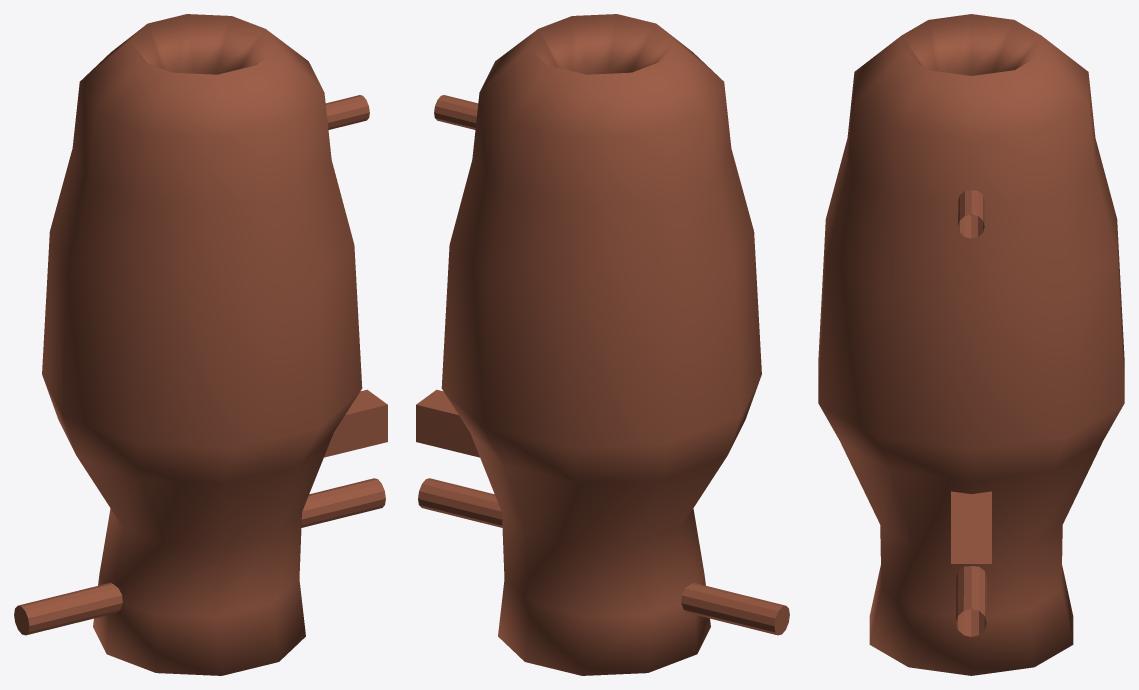
The model's file is thermite reaction.fbx.
The picture shows the model from 3 angles, left to right: view 1: azimuth 30°, elevation 25°; view 2: azimuth 150°, elevation 25°; view 3: azimuth 270°, elevation 25°; orthographic projection.
Parts seen in each view (by area): view 1: thermite_reaction1, pipe2, pipe, pipe1, pipe3; view 2: thermite_reaction1, pipe2, pipe, pipe1, pipe3; view 3: thermite_reaction1, pipe, pipe1, pipe3.
Boxes of the visible parts, bbox=[...] form: thermite_reaction1: bbox=[42, 14, 362, 675]; pipe2: bbox=[14, 582, 122, 635]; pipe: bbox=[324, 389, 387, 457]; pipe1: bbox=[301, 478, 385, 527]; pipe3: bbox=[325, 95, 369, 129]; thermite_reaction1: bbox=[441, 14, 761, 675]; pipe2: bbox=[681, 582, 789, 635]; pipe: bbox=[416, 389, 479, 457]; pipe1: bbox=[418, 478, 502, 527]; pipe3: bbox=[434, 95, 478, 129]; thermite_reaction1: bbox=[818, 14, 1124, 675]; pipe: bbox=[951, 491, 991, 563]; pipe1: bbox=[956, 566, 986, 636]; pipe3: bbox=[958, 190, 984, 238].
Size of the model in its own units: 1.03 by 1.62 by 0.7687.
